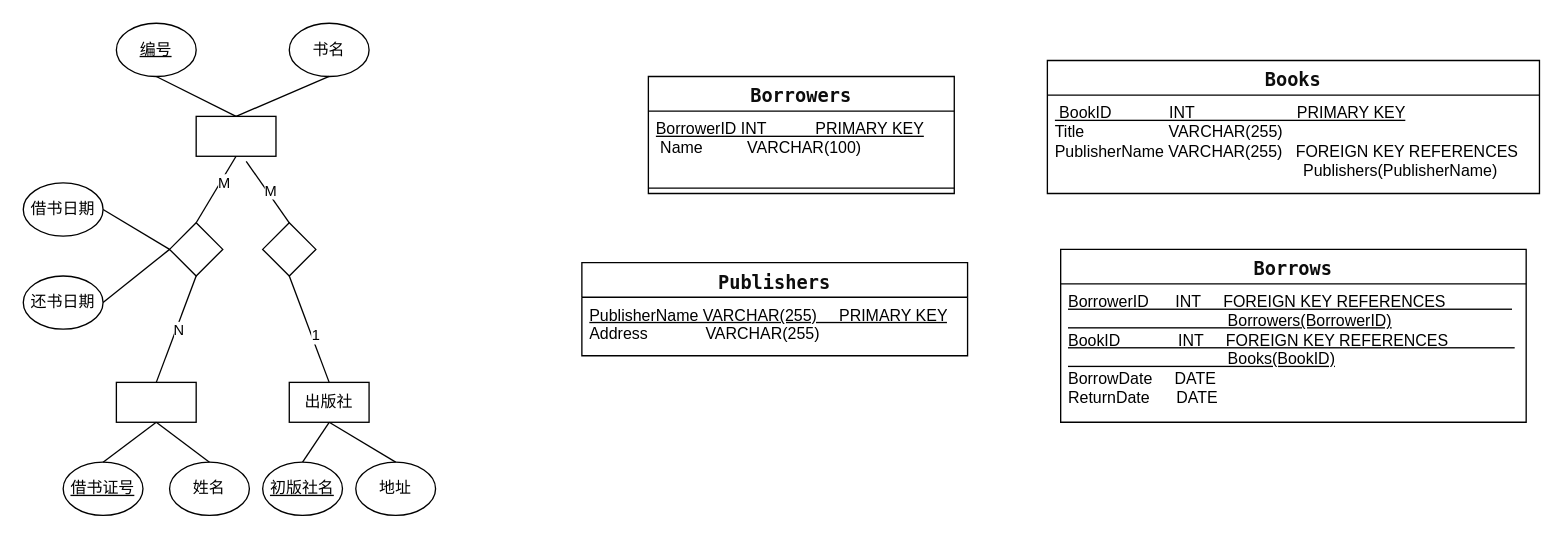
Some shapes in this 1563 by 539 pixel diagram are drawn without their labels. The centre of each missing label's shape, as x and y in pixels:
借书人: (155,401)
借阅: (195,248)
图书: (235,135)
拥有: (288,248)
